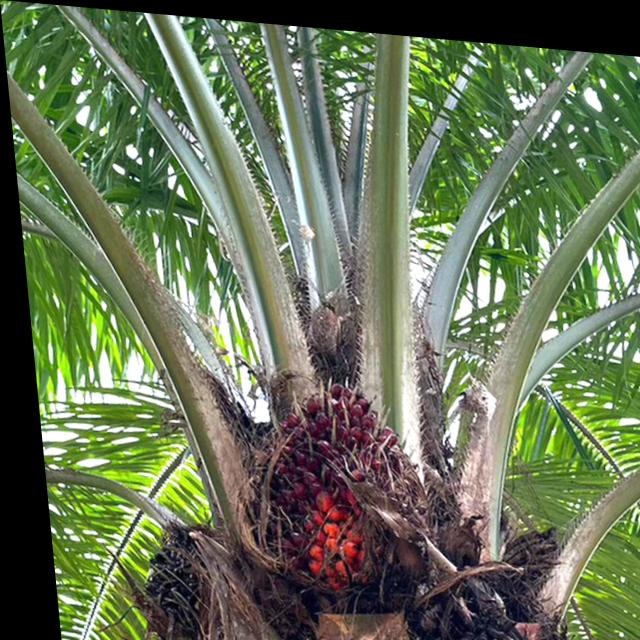ripe: (219, 364, 438, 598), (125, 500, 220, 640)
